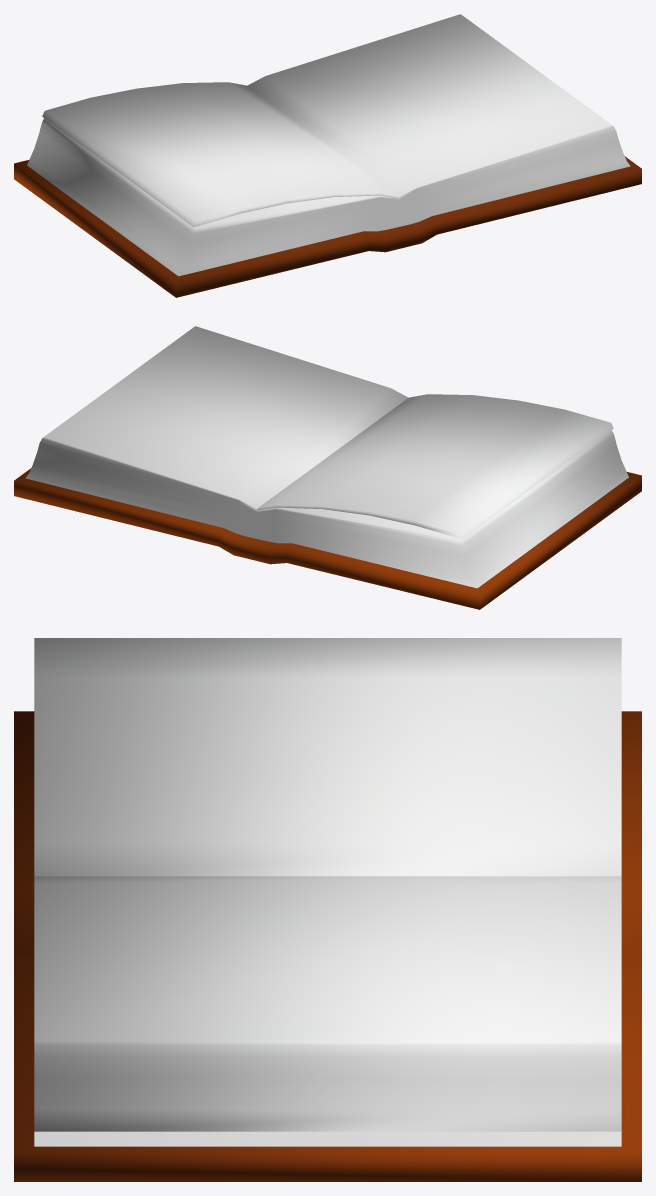
File: OpenBook.fbx
The picture shows the model from 3 angles, top to bottom: view 1: azimuth 30°, elevation 25°; view 2: azimuth 150°, elevation 25°; view 3: azimuth 270°, elevation 25°; orthographic projection. The views are drawn at different scales.
Parts seen in each view (by area): view 1: OpenBook; view 2: OpenBook; view 3: OpenBook.
Boxes of the visible parts, <box> form: OpenBook: <box>14,14,641,297</box>; OpenBook: <box>14,326,641,609</box>; OpenBook: <box>14,638,641,1181</box>.
Size of the model in its own units: 55.21 by 8.32 by 33.28.
Materials: 1 (1 with a texture image).
